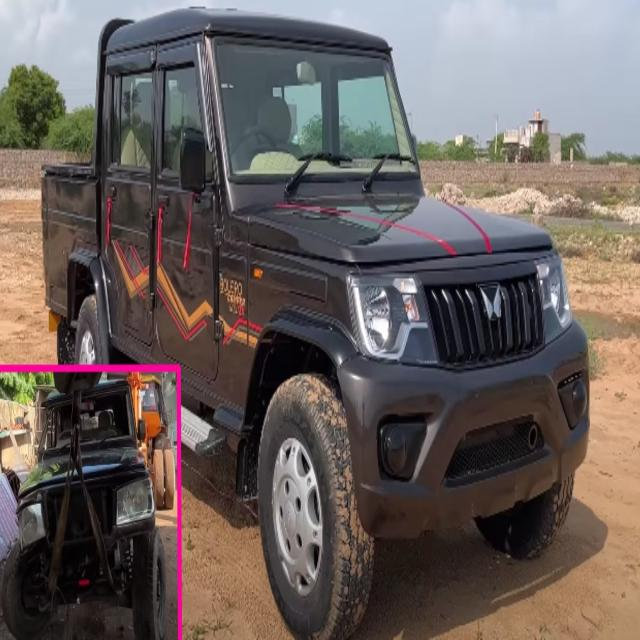light_vehicle: (91, 23, 596, 579)
